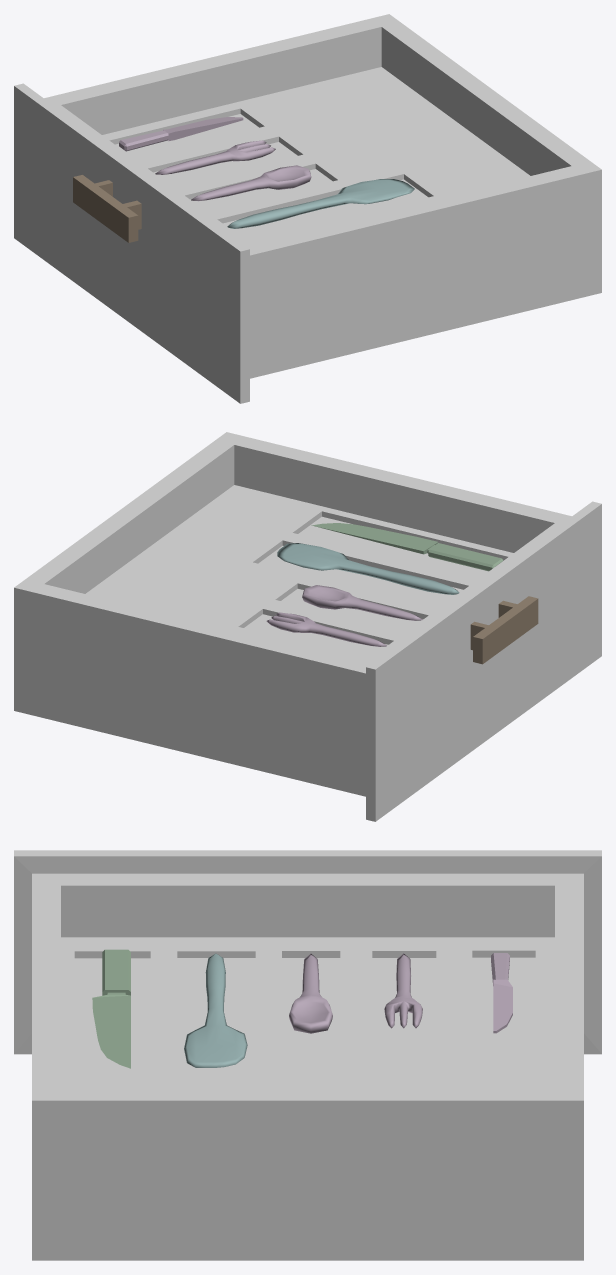
The model's file is Top_Drawer.fbx.
3 renders of one model, top to bottom at view 1: azimuth 30°, elevation 25°; view 2: azimuth 150°, elevation 25°; view 3: azimuth 270°, elevation 25°, orthographic. The views are drawn at different scales.
Parts seen in each view (by area): view 1: Top_Drawer, Spatula, pCube9, Spoon, Fork, Steak_Knife, Steak_Knife1; view 2: Top_Drawer, Spatula, pCube9, Spoon, Kitchen_Knife, Fork, Handle; view 3: Top_Drawer, Spatula, Kitchen_Knife, Spoon, Fork, Handle, Steak_Knife.
Boxes of the visible parts, <box> form: Top_Drawer: <box>14,14,601,403</box>; Spatula: <box>227,179,414,228</box>; pCube9: <box>73,175,141,242</box>; Spoon: <box>191,165,311,201</box>; Fork: <box>155,140,275,174</box>; Steak_Knife: <box>163,117,243,141</box>; Steak_Knife1: <box>119,130,168,151</box>; Top_Drawer: <box>14,432,601,821</box>; Spatula: <box>277,543,459,594</box>; pCube9: <box>470,596,538,664</box>; Spoon: <box>302,585,422,620</box>; Kitchen_Knife: <box>311,523,438,554</box>; Fork: <box>266,612,386,646</box>; Handle: <box>428,543,503,571</box>; Top_Drawer: <box>14,850,601,1260</box>; Spatula: <box>184,953,247,1067</box>; Kitchen_Knife: <box>92,992,130,1068</box>; Spoon: <box>289,953,332,1033</box>; Fork: <box>384,953,422,1028</box>; Handle: <box>102,949,130,995</box>; Steak_Knife: <box>493,979,512,1033</box>.
Bounding box in the file's own units: 0.8148 × 0.3023 × 0.8142.
